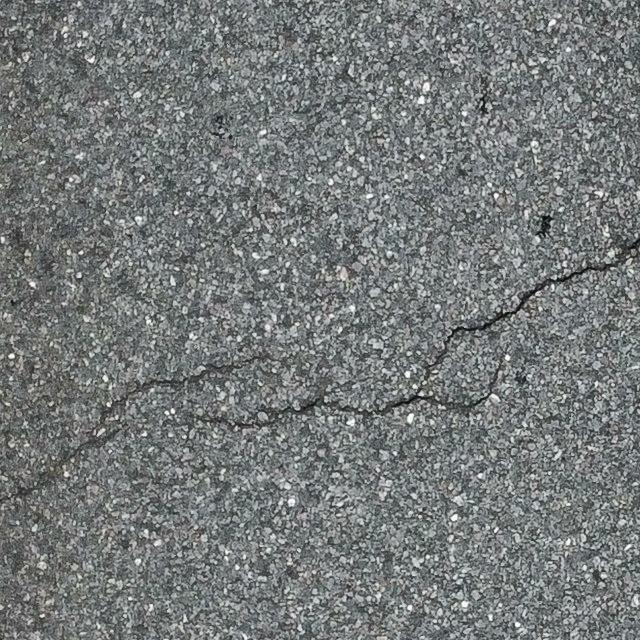TransverseCrack: (2, 241, 640, 500)
